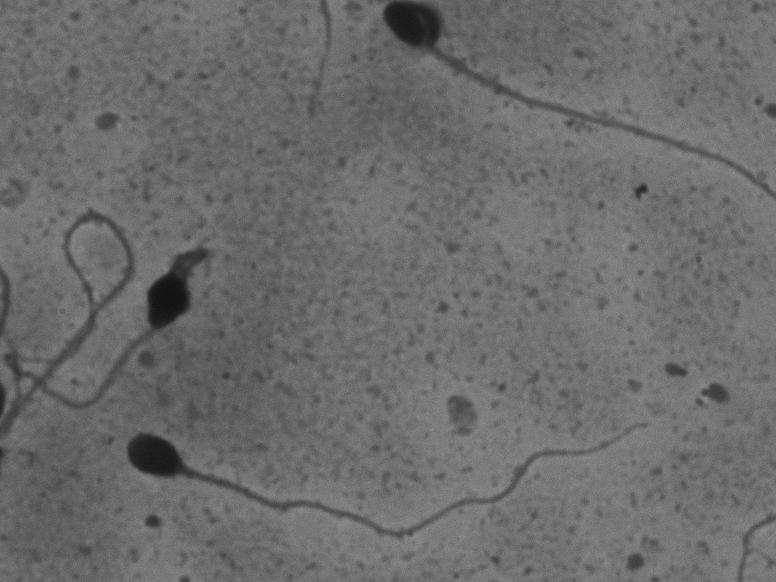Abnormal: (19, 194, 222, 420)
Normal: (99, 412, 668, 534)
